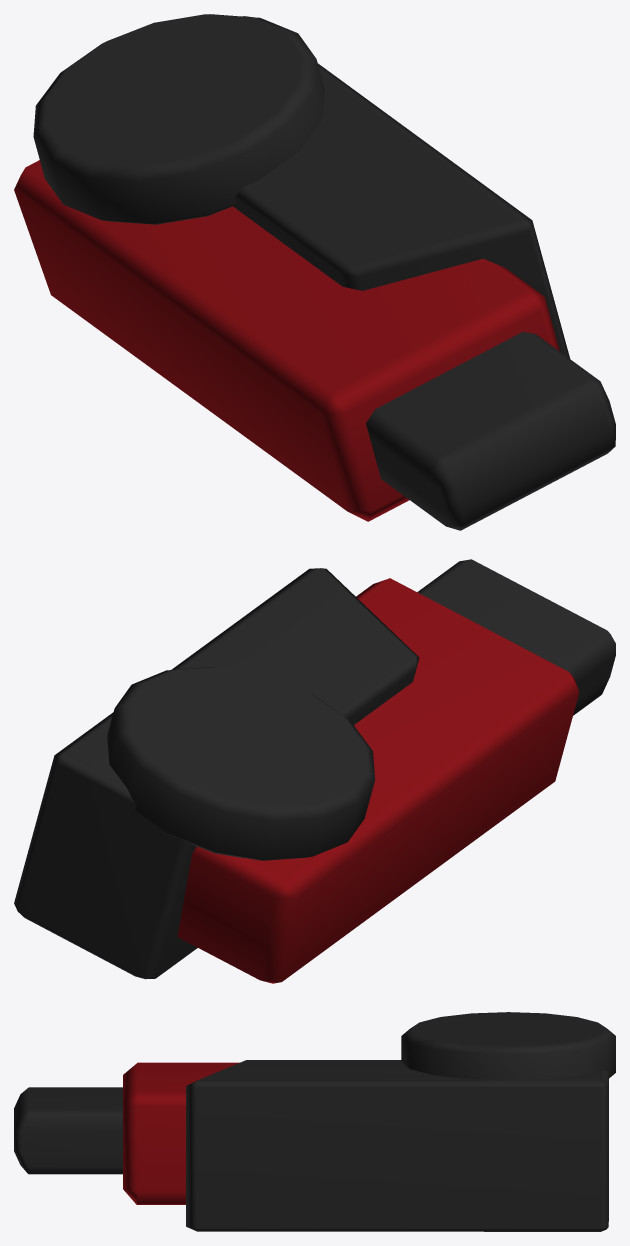
The model's file is Ship_enemy_05_Weapon_R.fbx.
3 renders of one model, top to bottom at view 1: azimuth 30°, elevation 25°; view 2: azimuth 150°, elevation 25°; view 3: azimuth 270°, elevation 25°, orthographic. The views are drawn at different scales.
Parts seen in each view (by area): view 1: Ship_enemy_05_Weapon_R; view 2: Ship_enemy_05_Weapon_R; view 3: Ship_enemy_05_Weapon_R.
Boxes of the visible parts, box(x1,y1,x2,y2) form: Ship_enemy_05_Weapon_R: box(14, 14, 615, 530); Ship_enemy_05_Weapon_R: box(14, 559, 615, 983); Ship_enemy_05_Weapon_R: box(14, 1012, 615, 1231).
Bounding box in the file's own units: 85.78 × 69.05 × 197.
